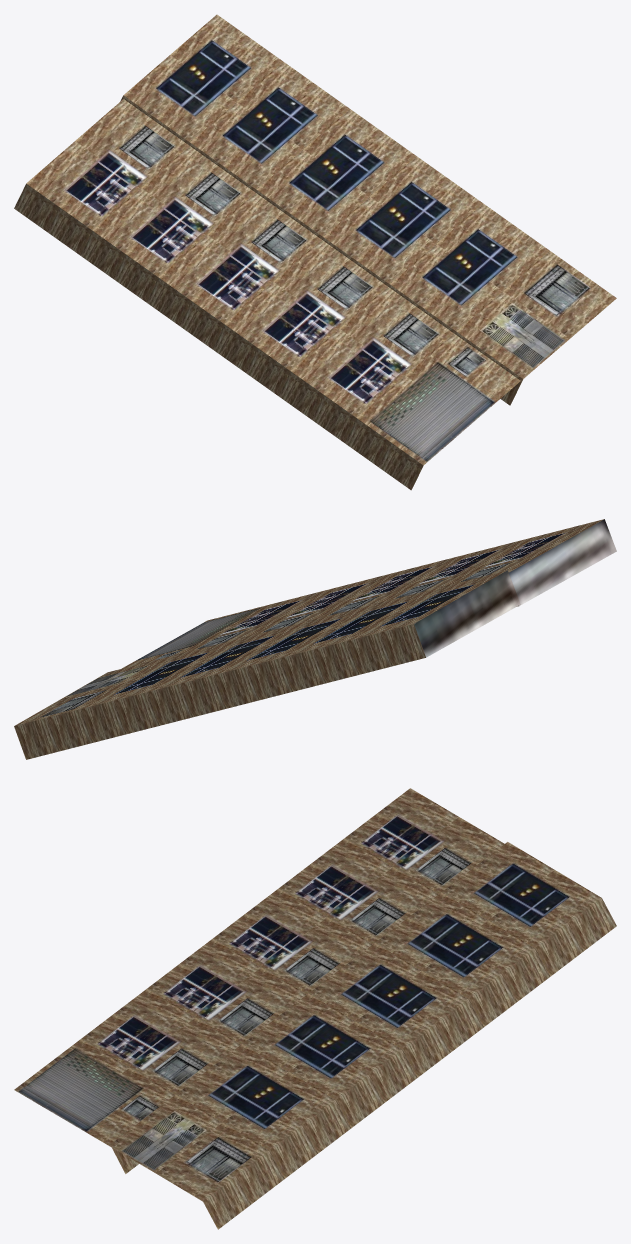
3 renders of one model, top to bottom at view 1: azimuth 30°, elevation 25°; view 2: azimuth 210°, elevation 25°; view 3: azimuth 270°, elevation 25°, orthographic. The views are drawn at different scales.
Size of the model in its own units: 22.47 by 10.94 by 22.91.
Materials: 8 (8 with a texture image).
